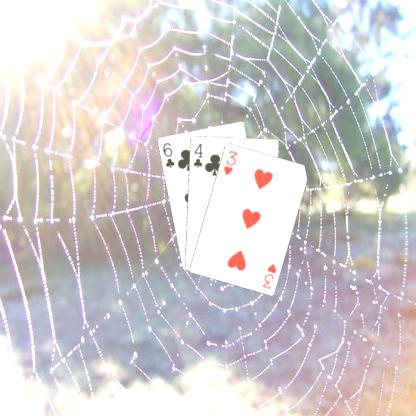3H: (259, 260, 277, 290), (221, 148, 239, 176)
4C: (191, 140, 204, 168)
6C: (160, 140, 176, 168)
